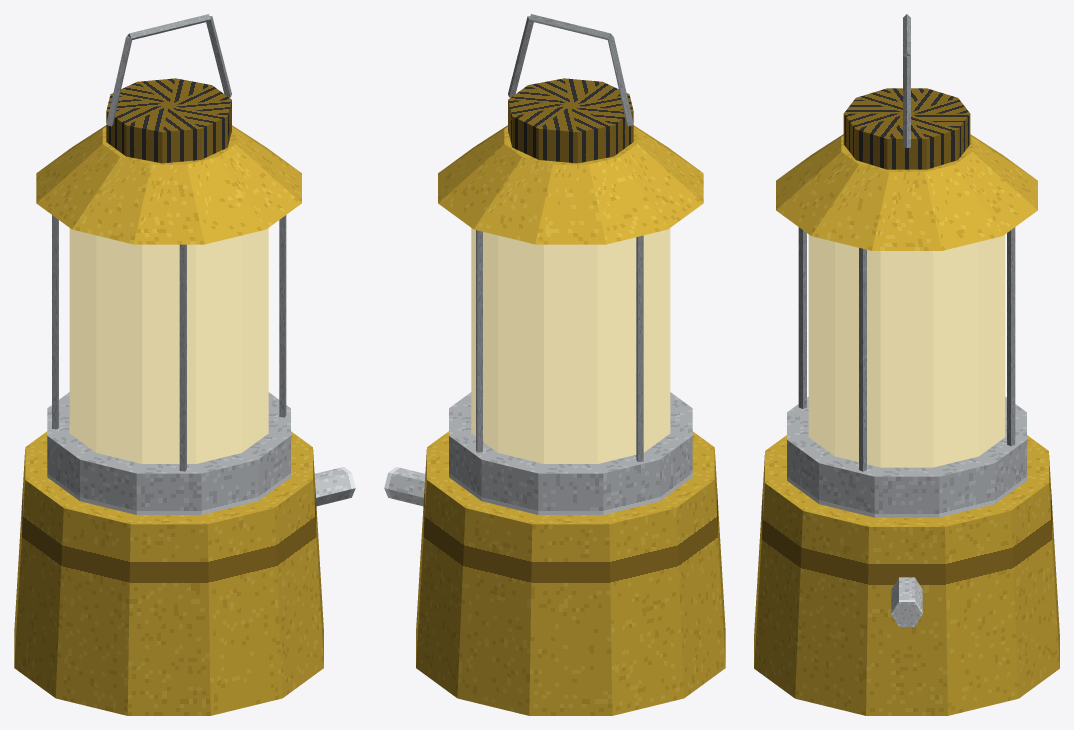
The model's file is gasoline_lantern_on.glb.
3 renders of one model, left to right at view 1: azimuth 30°, elevation 25°; view 2: azimuth 150°, elevation 25°; view 3: azimuth 270°, elevation 25°, orthographic.
Visible parts, largest first — view 1: block_fount, block_globe, block_hood, block_collar, block_vent, block_guard1, block_guard0, block_guard2, block_pump, block_bail1, block_bail3, block_bail2; view 2: block_fount, block_globe, block_hood, block_collar, block_vent, block_guard2, block_guard3, block_pump, block_bail1, block_bail3, block_bail2; view 3: block_fount, block_globe, block_hood, block_collar, block_vent, block_guard3, block_guard0, block_guard1, block_pump, block_bail3.
Part boxes in pixels (x1=…): block_fount: x1=14, y1=431, x2=323, y2=715; block_globe: x1=69, y1=228, x2=268, y2=463; block_hood: x1=36, y1=125, x2=301, y2=244; block_collar: x1=47, y1=392, x2=290, y2=514; block_vent: x1=106, y1=78, x2=231, y2=163; block_guard1: x1=179, y1=244, x2=186, y2=471; block_guard0: x1=279, y1=215, x2=286, y2=417; block_guard2: x1=52, y1=215, x2=58, y2=429; block_pump: x1=314, y1=467, x2=355, y2=506; block_bail1: x1=106, y1=36, x2=132, y2=126; block_bail3: x1=206, y1=16, x2=231, y2=97; block_bail2: x1=127, y1=14, x2=210, y2=39; block_fount: x1=416, y1=431, x2=725, y2=715; block_globe: x1=471, y1=228, x2=670, y2=463; block_hood: x1=438, y1=125, x2=703, y2=244; block_collar: x1=449, y1=392, x2=692, y2=514; block_vent: x1=508, y1=78, x2=633, y2=163; block_guard2: x1=636, y1=235, x2=643, y2=461; block_guard3: x1=476, y1=230, x2=482, y2=452; block_pump: x1=384, y1=467, x2=425, y2=506; block_bail1: x1=607, y1=36, x2=633, y2=126; block_bail3: x1=508, y1=16, x2=533, y2=97; block_bail2: x1=529, y1=14, x2=612, y2=39; block_fount: x1=754, y1=435, x2=1059, y2=715; block_globe: x1=808, y1=234, x2=1005, y2=467; block_hood: x1=776, y1=134, x2=1037, y2=250; block_collar: x1=787, y1=397, x2=1026, y2=517; block_vent: x1=843, y1=88, x2=970, y2=169; block_guard3: x1=1007, y1=227, x2=1015, y2=446; block_guard0: x1=859, y1=248, x2=866, y2=471; block_guard1: x1=798, y1=227, x2=806, y2=408; block_pump: x1=891, y1=577, x2=922, y2=626; block_bail3: x1=903, y1=56, x2=910, y2=147.
Size of the model in its own units: 0.1576 by 0.3018 by 0.1352.
Materials: 2 (2 with a texture image).
